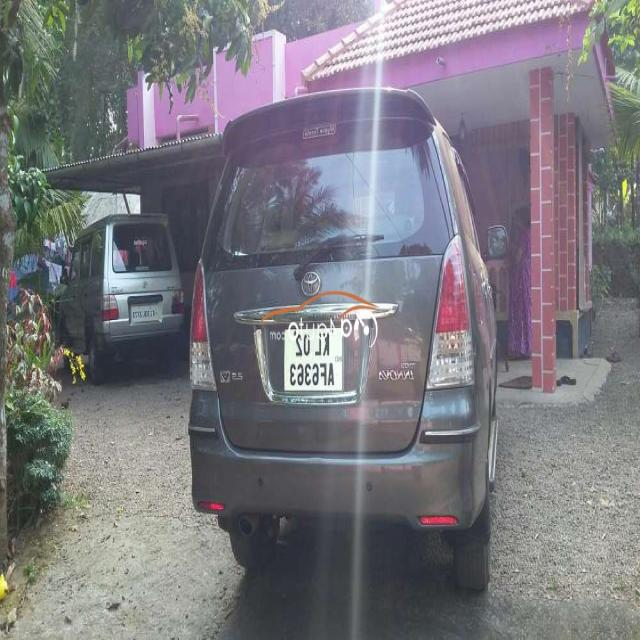number-plate: (262, 312, 352, 405)
